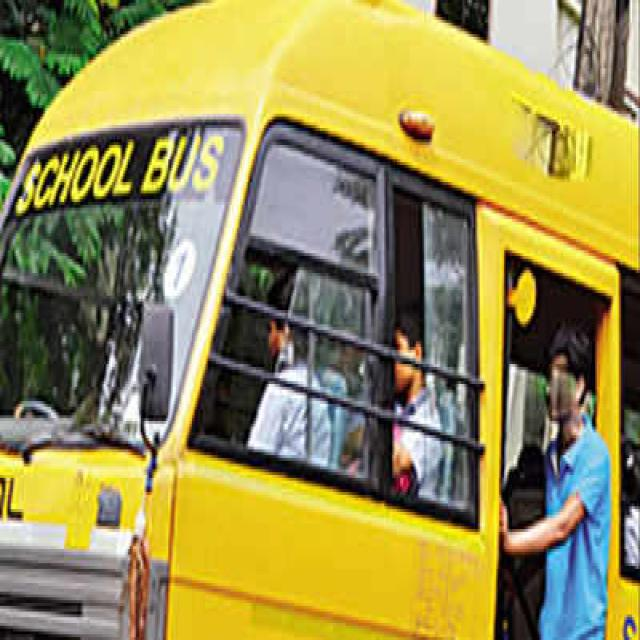bus: (1, 2, 640, 638)
